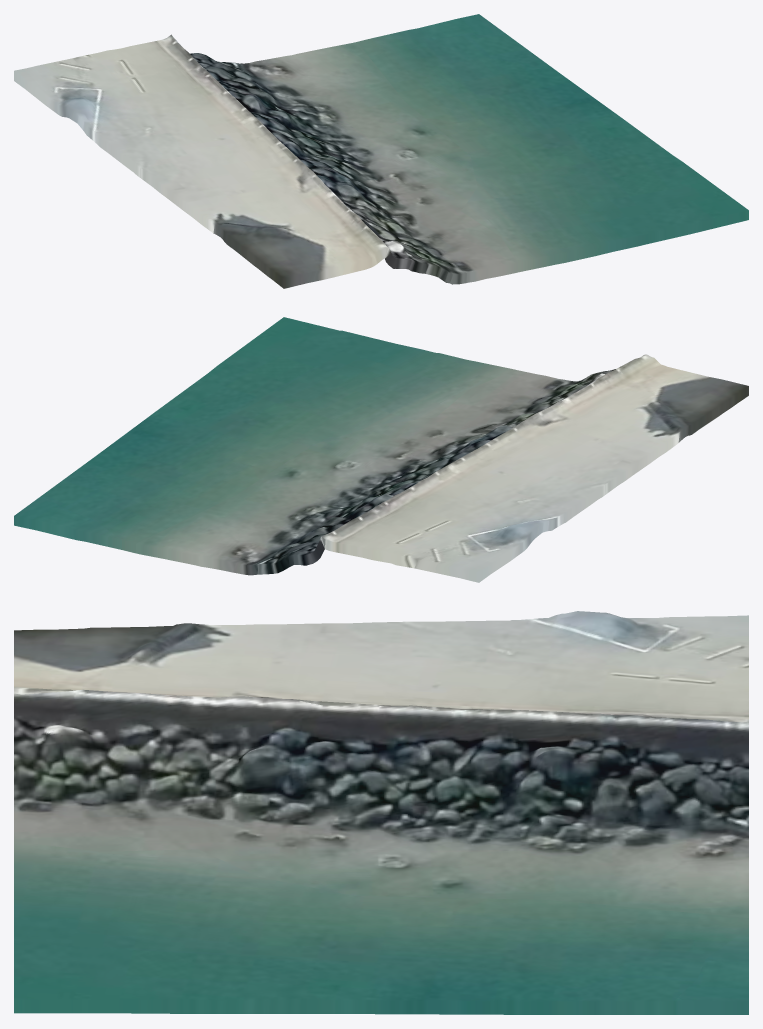
File: z20-167563-405171-h0-yup-uvflip-v3-world.glb
3 views of the same model, one above another, from view 1: azimuth 30°, elevation 25°; view 2: azimuth 150°, elevation 25°; view 3: azimuth 270°, elevation 25° (orthographic). The views are drawn at different scales.
Bounding box in the file's own units: 30.16 × 4.4 × 30.32.
1 material, 1 textured.
